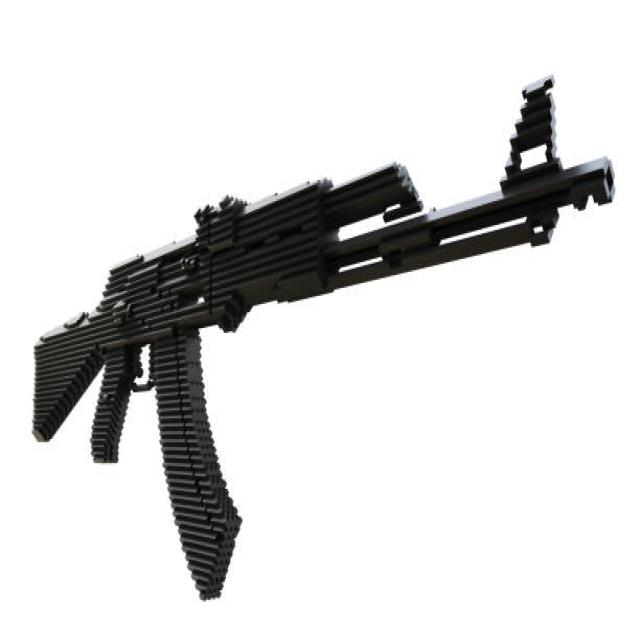rifle: (27, 71, 615, 612)
